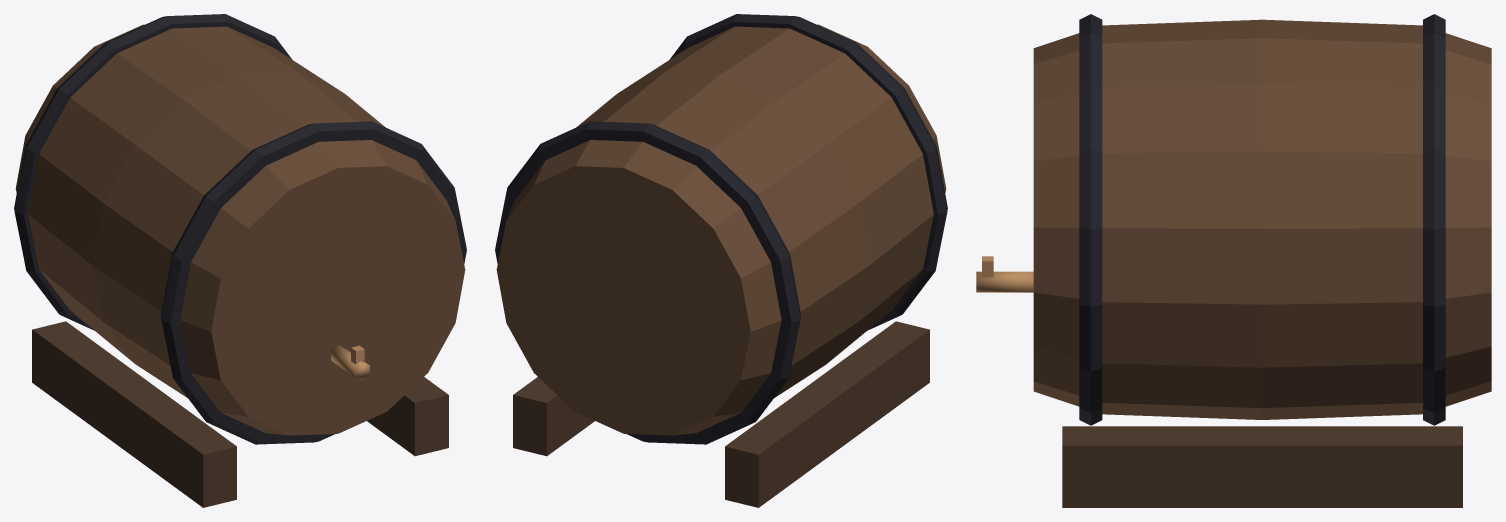
File: barrel_spigot.glb
3 renders of one model, left to right at view 1: azimuth 30°, elevation 25°; view 2: azimuth 150°, elevation 25°; view 3: azimuth 270°, elevation 25°, orthographic. The views are drawn at different scales.
Parts seen in each view (by area): view 1: barrel_spigot; view 2: barrel_spigot; view 3: barrel_spigot.
Boxes of the visible parts, bbox=[...] form: barrel_spigot: bbox=[14, 14, 466, 507]; barrel_spigot: bbox=[495, 14, 947, 507]; barrel_spigot: bbox=[976, 14, 1491, 507].
Size of the model in its own units: 0.72 by 0.78 by 0.9.
